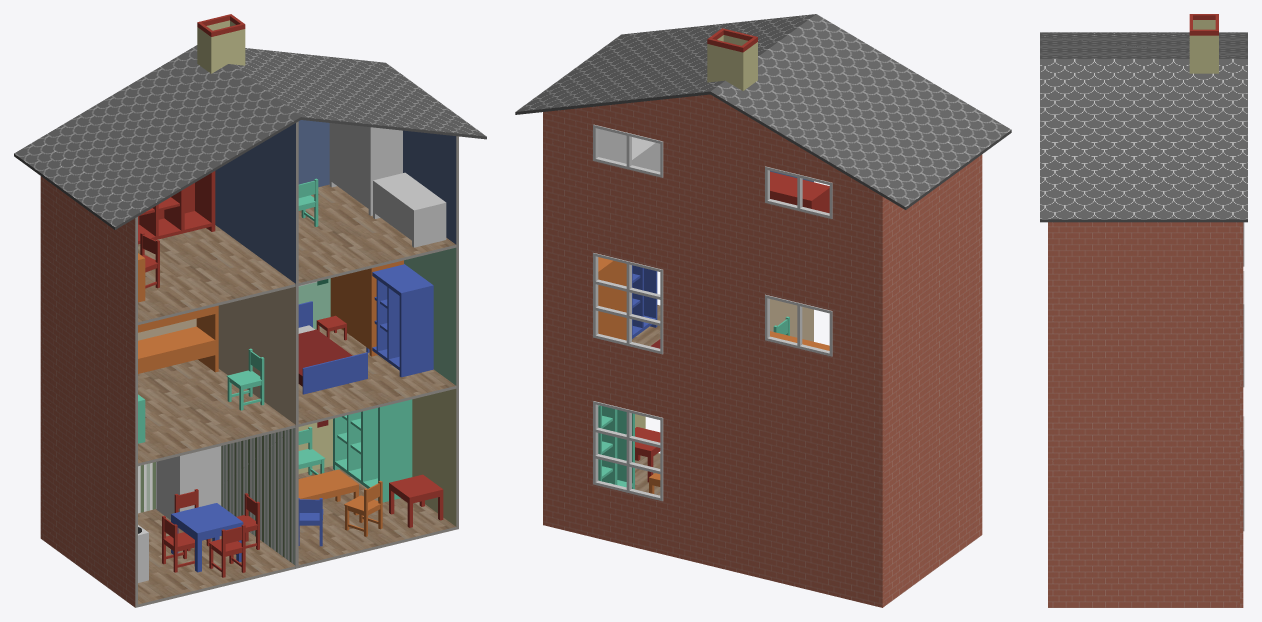
Rendered from sweethome3d-scopia-doll-house.glb.
The picture shows the model from 3 angles, left to right: view 1: azimuth 30°, elevation 25°; view 2: azimuth 150°, elevation 25°; view 3: azimuth 270°, elevation 25°; orthographic projection. The views are drawn at different scales.
Visible parts, largest first — view 1: floors_Cube.005, roof.001_Cube.006, external-walls_Cube.003, walls-inner_Cube.002, Cube.005_Cube.011, Cube.016_Cube.042, Cube.010_Cube.034, Cube.008_Cube.031, back-inner_Cube.010, Cube.009_Cube.032, Cube.006_Cube.028, Cube.003_Cube.026 (+20 smaller); view 2: back-external-wall_Cube.001, roof.001_Cube.006, external-walls_Cube.003, Cube.019_Cube.004, windows-first-right_Plane.003, base-window_Plane.004, Cube.016_Cube.042, Cube.011_Cube.035, roof_Cube, Cube.007_Cube.029, Cube.010_Cube.034, walls-inner_Cube.002 (+7 smaller); view 3: external-walls_Cube.003, roof.001_Cube.006, Cube.019_Cube.004, back-external-wall_Cube.001, roof_Cube.
Boxes of the visible parts, x1=… form: floors_Cube.005: x1=138, y1=184, x2=456, y2=607; roof.001_Cube.006: x1=14, y1=45, x2=486, y2=226; external-walls_Cube.003: x1=42, y1=177, x2=135, y2=607; walls-inner_Cube.002: x1=135, y1=121, x2=458, y2=607; Cube.005_Cube.011: x1=221, y1=427, x2=295, y2=568; Cube.016_Cube.042: x1=333, y1=399, x2=412, y2=502; Cube.010_Cube.034: x1=366, y1=264, x2=433, y2=377; Cube.008_Cube.031: x1=329, y1=123, x2=402, y2=215; back-inner_Cube.010: x1=138, y1=120, x2=332, y2=473; Cube.009_Cube.032: x1=373, y1=172, x2=446, y2=247; Cube.006_Cube.028: x1=138, y1=305, x2=218, y2=373; Cube.003_Cube.026: x1=156, y1=446, x2=221, y2=519; back-external-wall_Cube.001: x1=543, y1=94, x2=884, y2=607; roof.001_Cube.006: x1=516, y1=14, x2=1011, y2=207; external-walls_Cube.003: x1=884, y1=154, x2=982, y2=606; Cube.019_Cube.004: x1=707, y1=28, x2=757, y2=90; windows-first-right_Plane.003: x1=593, y1=253, x2=663, y2=354; base-window_Plane.004: x1=593, y1=401, x2=663, y2=501; Cube.016_Cube.042: x1=598, y1=405, x2=634, y2=489; Cube.011_Cube.035: x1=598, y1=257, x2=626, y2=340; roof_Cube: x1=515, y1=91, x2=1011, y2=209; Cube.007_Cube.029: x1=770, y1=171, x2=829, y2=213; Cube.010_Cube.034: x1=632, y1=265, x2=657, y2=338; walls-inner_Cube.002: x1=635, y1=170, x2=813, y2=428; external-walls_Cube.003: x1=1048, y1=222, x2=1239, y2=607; roof.001_Cube.006: x1=1040, y1=32, x2=1247, y2=219; Cube.019_Cube.004: x1=1189, y1=14, x2=1218, y2=73; back-external-wall_Cube.001: x1=1240, y1=222, x2=1243, y2=607; roof_Cube: x1=1040, y1=219, x2=1247, y2=222.
Bounding box in the file's own units: 69 × 86.78 × 32.42.
23 materials, 4 textured.
